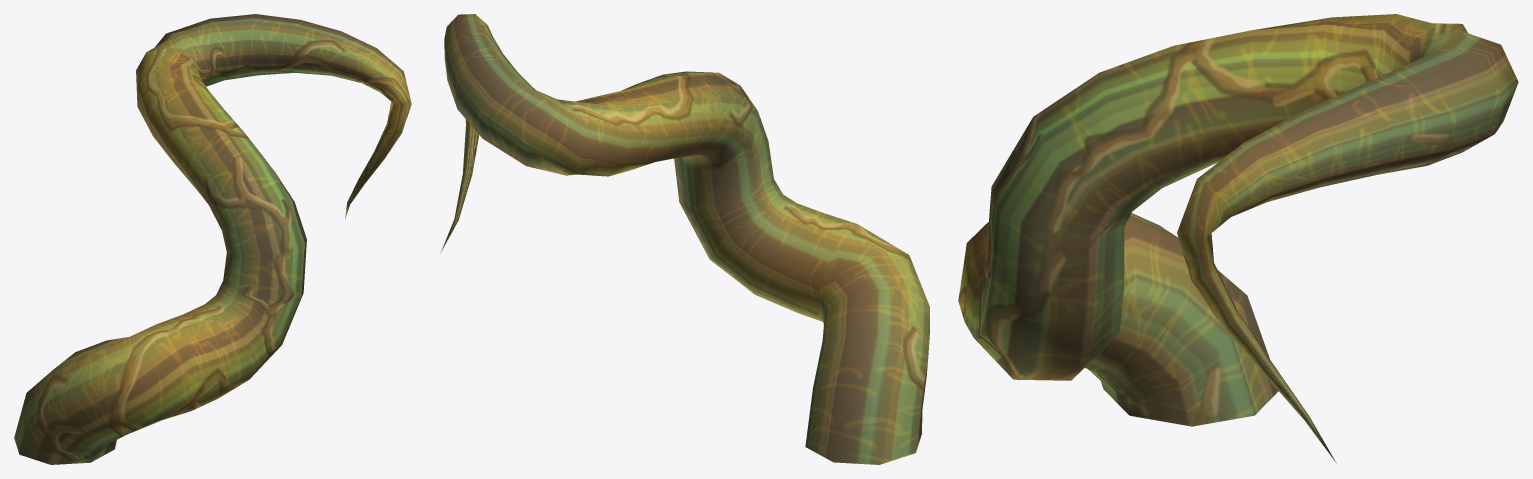
The model's file is vine_01_v04.fbx.
3 renders of one model, left to right at view 1: azimuth 30°, elevation 25°; view 2: azimuth 150°, elevation 25°; view 3: azimuth 270°, elevation 25°, orthographic. The views are drawn at different scales.
Parts seen in each view (by area): view 1: vine_01_v04; view 2: vine_01_v04; view 3: vine_01_v04.
Part boxes in pixels (x1,y1,x2,y2): vine_01_v04: (14,14,411,464); vine_01_v04: (440,14,929,464); vine_01_v04: (958,14,1518,463).
Bounding box in the file's own units: 105 × 80.02 × 76.25.
